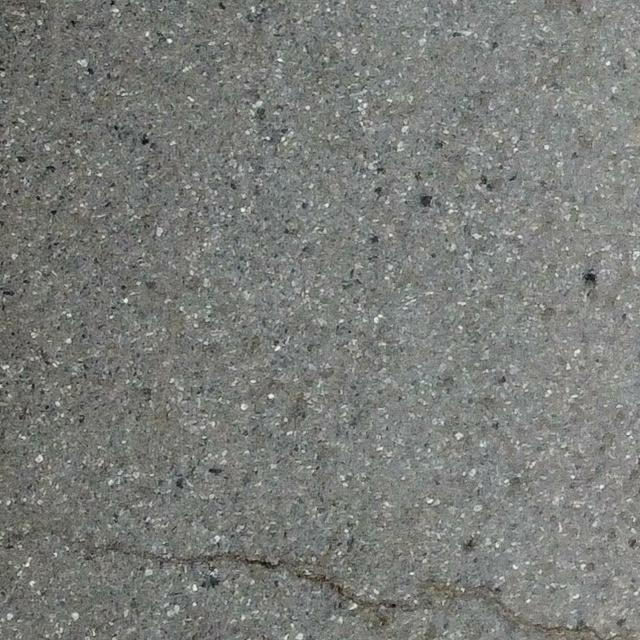TransverseCrack: (90, 542, 640, 640)
